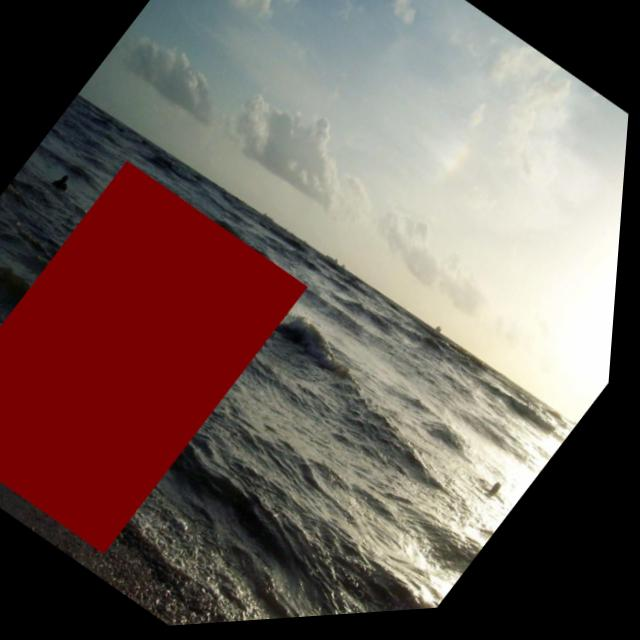RedSquare: (0, 142, 333, 580)
